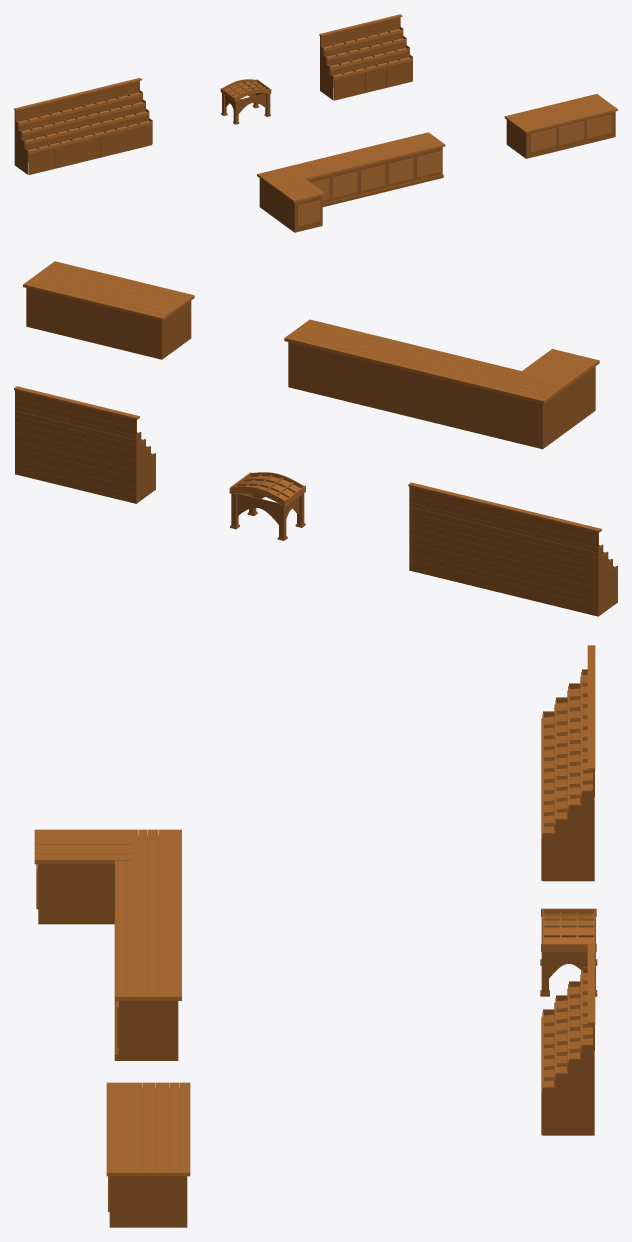
The model's file is shop-furniture.glb.
3 views of the same model, one above another, from view 1: azimuth 30°, elevation 25°; view 2: azimuth 150°, elevation 25°; view 3: azimuth 270°, elevation 25° (orthographic). The views are drawn at different scales.
Parts seen in each view (by area): view 1: body, body.001, ret, top, back.018, back.019, top.005, riser.003, riser.010, top.003, riser.019, top.004 (+37 smaller); view 2: body, body.001, back.010, top.005, back.012, back.017, back.019, back.016, back.013, ret, back.018, back.014 (+29 smaller); view 3: ret, body.001, body, sidepanel.003, sidepanel.001, top.005, top.003, top.004, top.001, top.002, top, top.008 (+11 smaller).
Part boxes in pixels (box(x1,y1,x2,y2)): body: box(259, 147, 442, 217); body.001: box(506, 111, 615, 158); ret: box(272, 188, 322, 232); top: box(271, 142, 445, 187); back.018: box(14, 86, 139, 120); back.019: box(14, 81, 139, 115); top.005: box(257, 132, 431, 177); riser.003: box(386, 60, 412, 87); riser.010: box(28, 148, 54, 174); top.003: box(263, 136, 436, 181); riser.019: box(22, 105, 145, 138); top.004: box(260, 134, 433, 179); body: box(288, 342, 561, 449); body.001: box(26, 288, 191, 359); back.010: box(409, 560, 598, 616); top.005: box(284, 334, 548, 404); back.012: box(409, 543, 598, 598); back.017: box(409, 503, 598, 558); back.019: box(409, 486, 598, 541); back.016: box(409, 513, 598, 566); back.013: box(409, 535, 598, 588); ret: box(561, 366, 595, 435); back.018: box(409, 495, 598, 548); back.014: box(409, 528, 598, 580); ret: box(38, 864, 114, 924); body.001: box(109, 1088, 187, 1227); body: box(118, 835, 178, 1060); sidepanel.003: box(543, 771, 594, 881); sidepanel.001: box(543, 1024, 594, 1135); top.005: box(169, 829, 181, 1000); top.003: box(148, 829, 158, 1000); top.004: box(159, 829, 169, 1000); top.001: box(127, 829, 138, 1000); top.002: box(138, 829, 147, 1000); top: box(115, 860, 126, 1000); top.008: box(129, 1082, 142, 1176).
Size of the model in its own units: 17.2 by 1.95 by 8.7.
